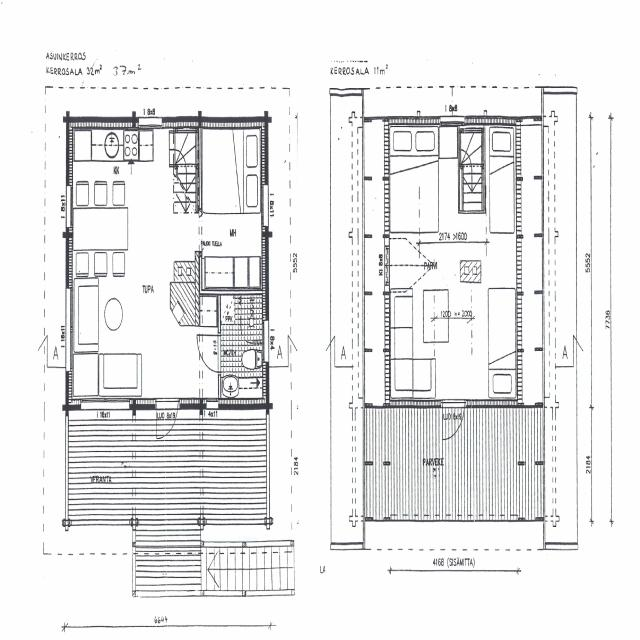door: (442, 400, 465, 448), (156, 398, 178, 448), (197, 336, 221, 372)
